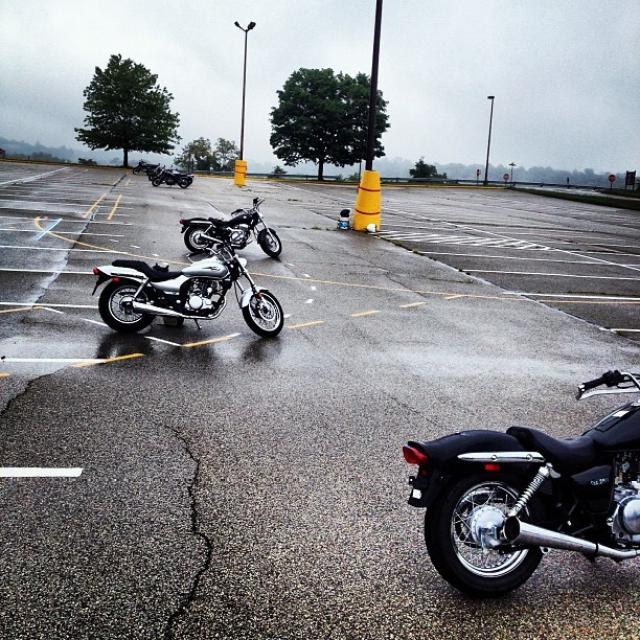motor: (404, 372, 640, 597), (93, 247, 283, 339), (179, 196, 283, 256), (152, 169, 190, 189), (132, 160, 161, 175)
